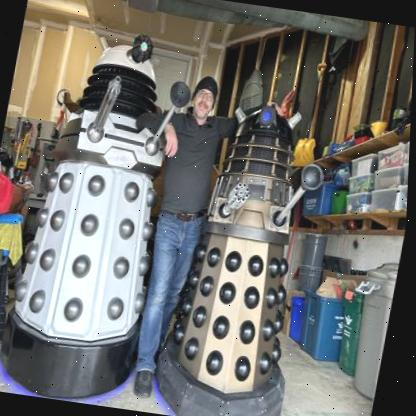dalek: (0, 25, 202, 403), (156, 68, 349, 416)
person: (105, 67, 242, 402)
